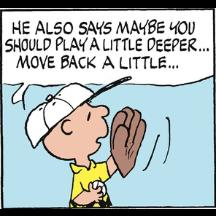charlie: (26, 76, 148, 208)
